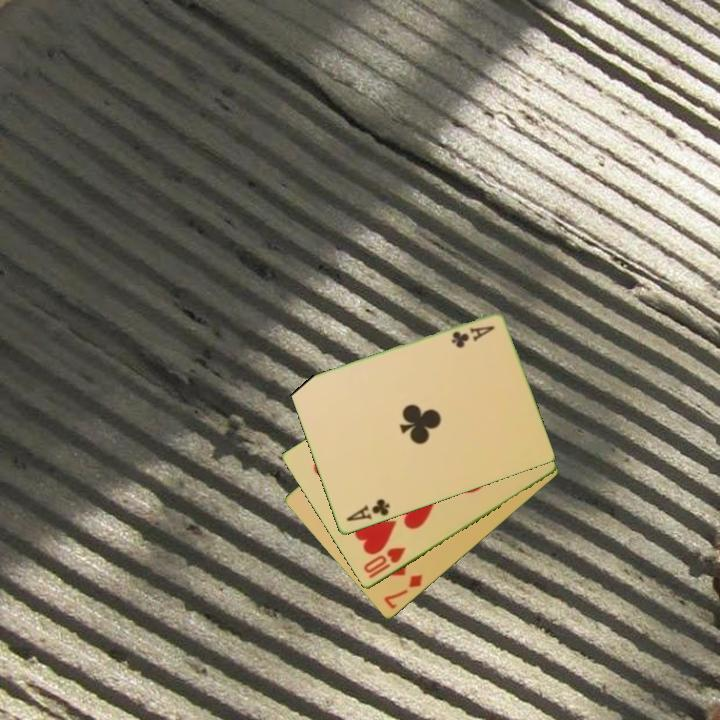10h: (360, 544, 408, 582)
7d: (380, 571, 426, 613)
Ac: (342, 495, 393, 525), (448, 322, 497, 351)
